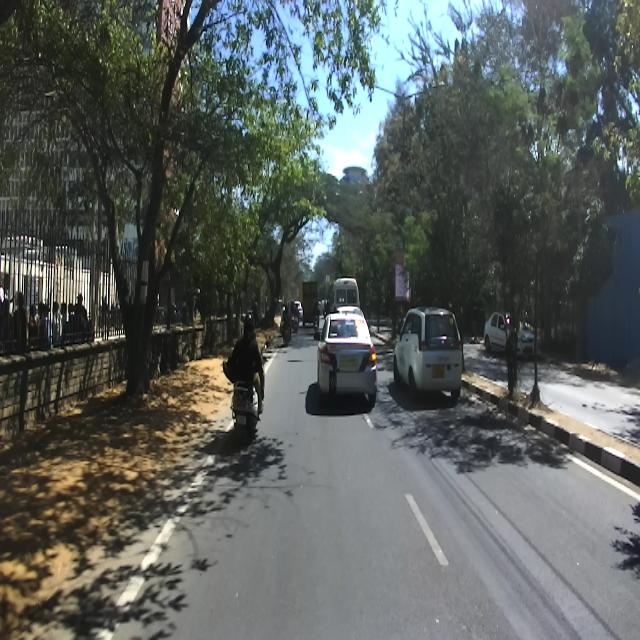car ahead at: (390, 302, 466, 400), (318, 303, 379, 417)
tree ahead at: (89, 146, 179, 398)
